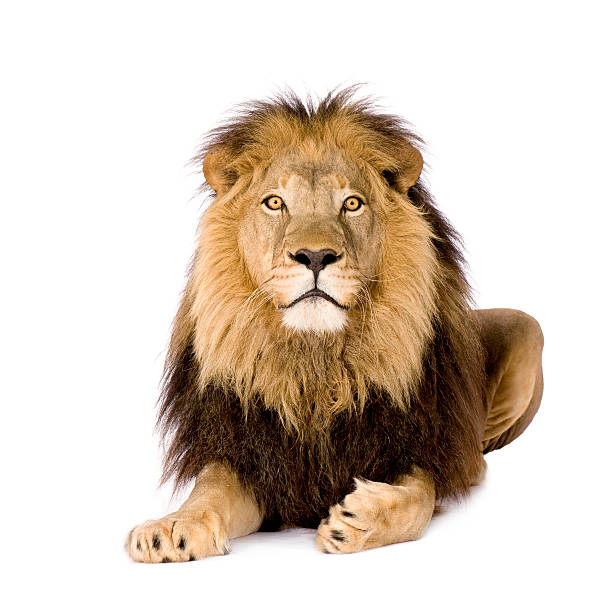lion: (123, 64, 524, 503)
